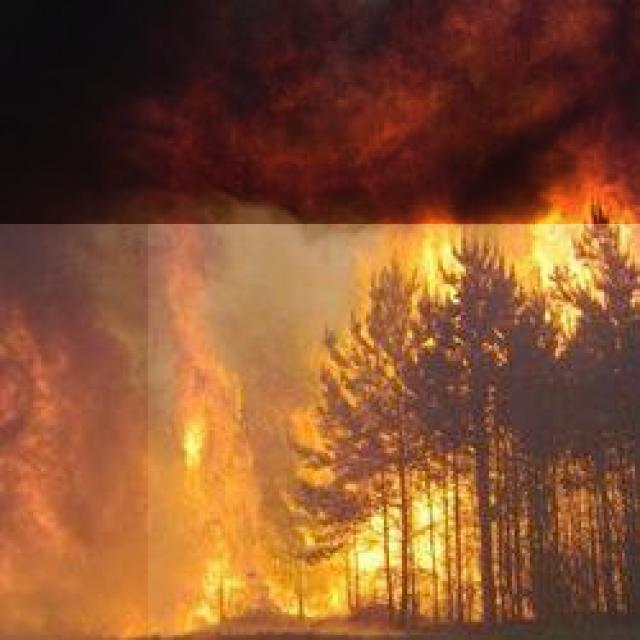Fire: (148, 201, 640, 640)
Smoke: (0, 0, 640, 224)
